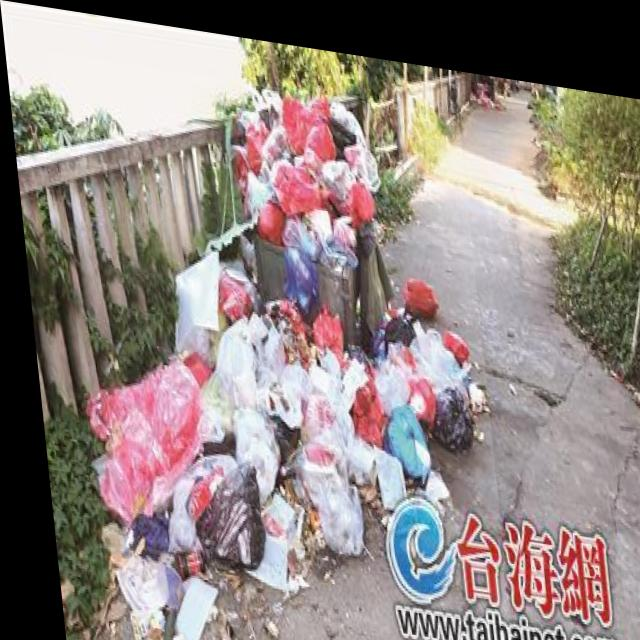garbage: (47, 51, 506, 640)
